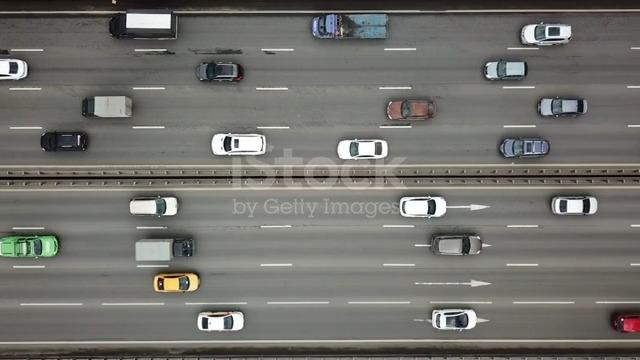Cars: (1, 235, 59, 259), (211, 133, 267, 156), (521, 22, 572, 47), (337, 139, 389, 161), (537, 96, 588, 118), (499, 137, 550, 159), (400, 196, 447, 219), (387, 99, 436, 121), (196, 61, 244, 83), (129, 196, 179, 217), (153, 272, 201, 293), (197, 311, 245, 332), (484, 60, 528, 81), (1, 58, 29, 81)
